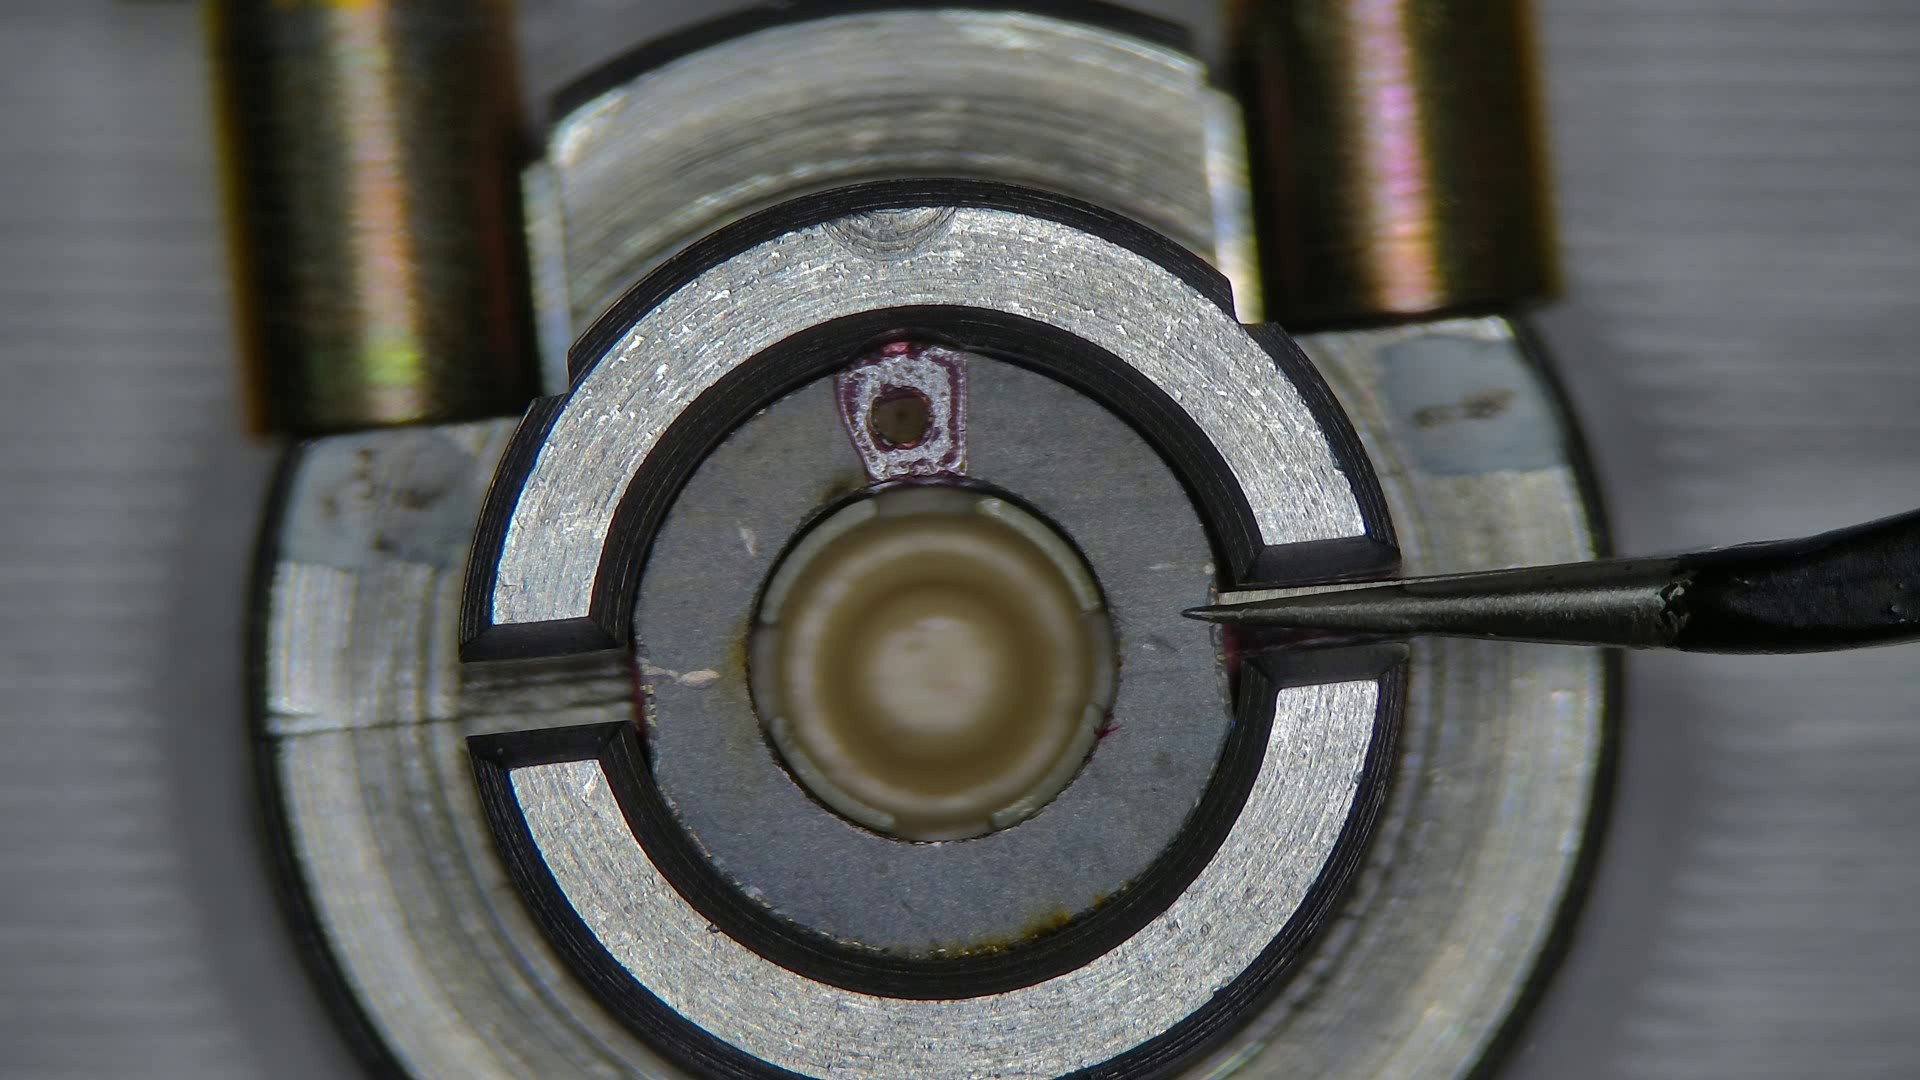YellowOring: (635, 345, 1228, 960)
